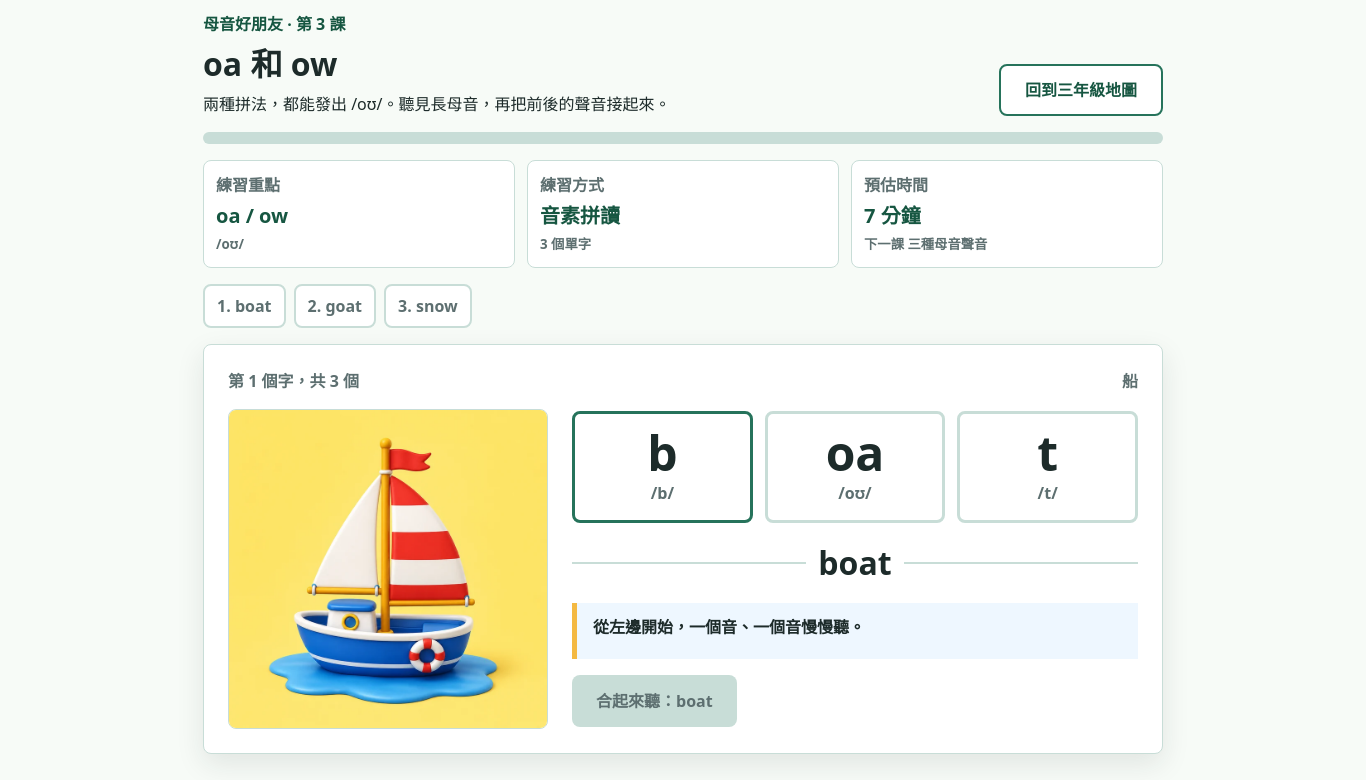
it: GradeThree ai/ay lesson page › 第三課把 oa 與 ow 視為共同的長母音
The width and height of the screenshot is (1366, 780).
Expected: the heading "oa 和 ow" is shown, [203,42,337,85]
Expected: the text "boat" is shown, [818,539,892,587]
Click the button named "播放 b 的聲音".
click(662, 467)  # box [572,411,753,523]
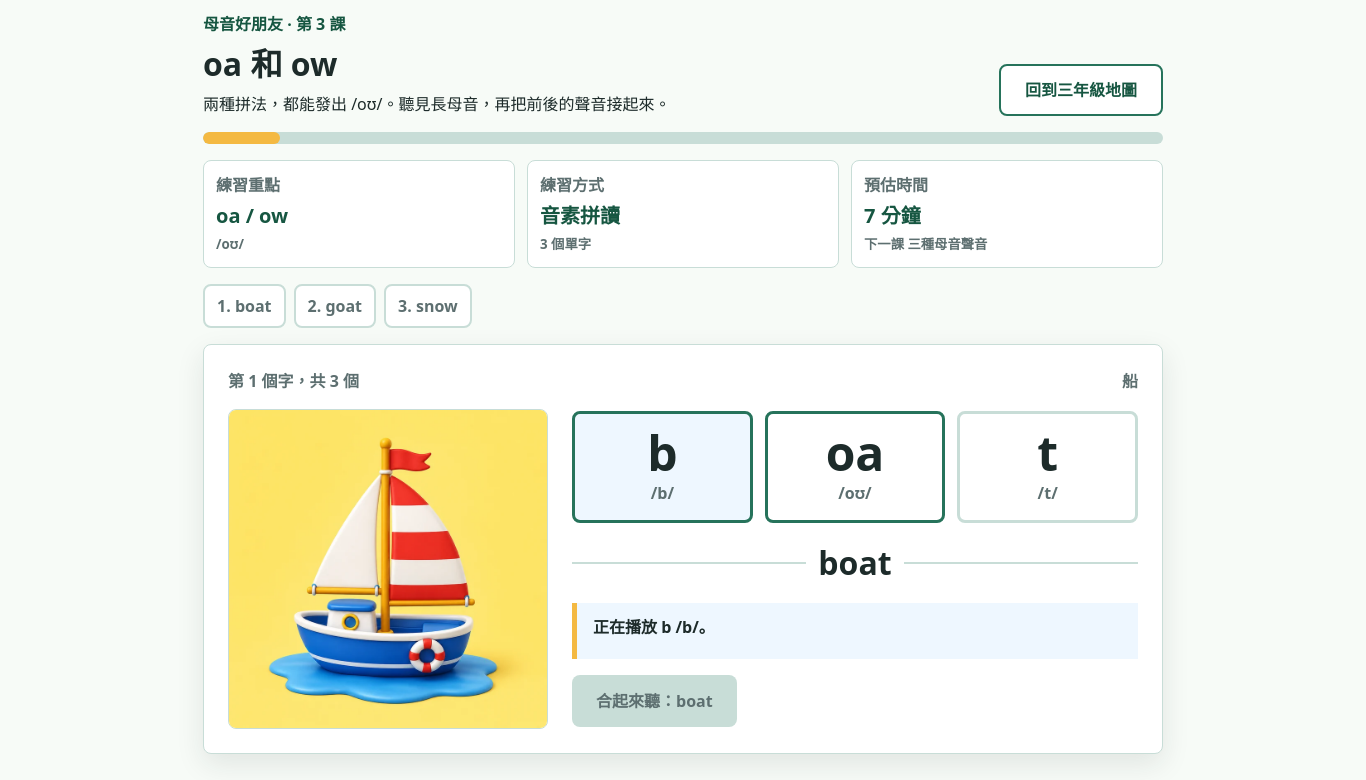
Click the button with aria-label "播放 oa 的聲音".
click(855, 467)  # box [765,411,945,523]
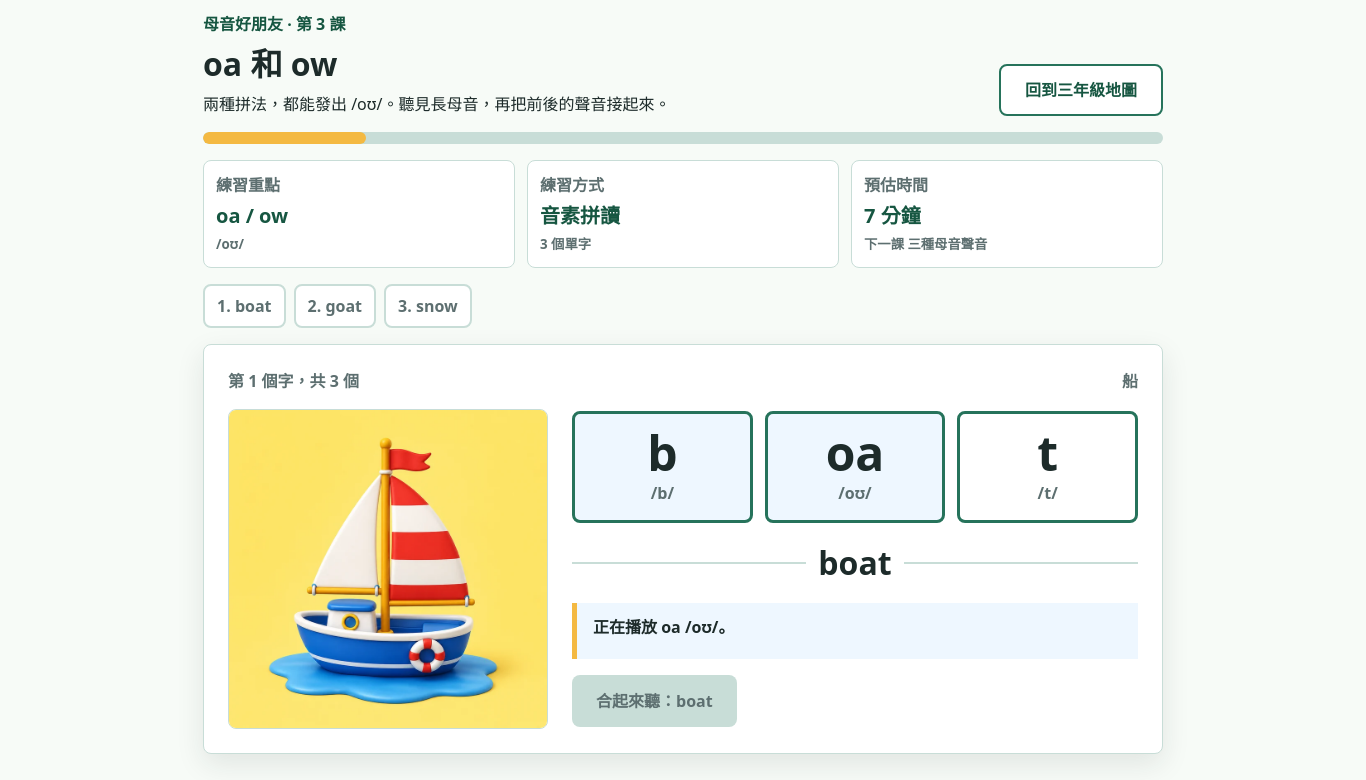
Click the button named "播放 t 的聲音".
click(1048, 467)  # box [957,411,1138,523]
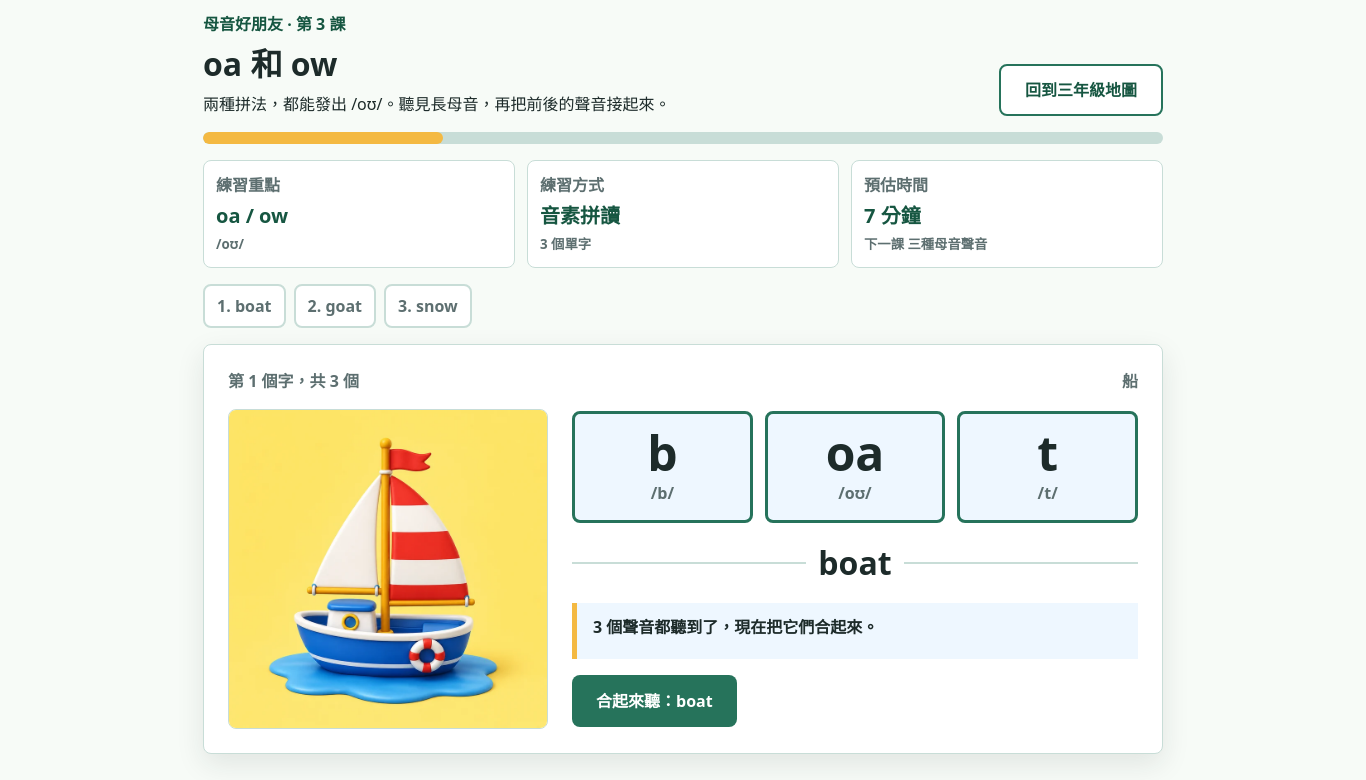
Expected: the button "合起來聽：boat" is enabled, [572,675,737,727]
